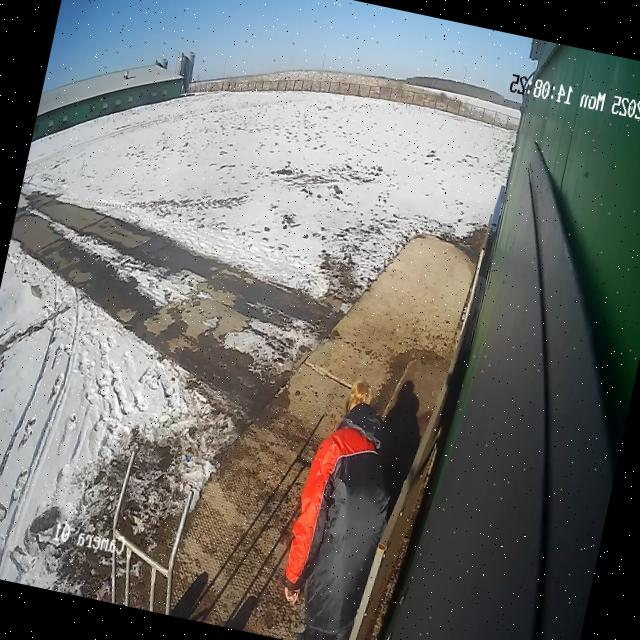Red uniform: (268, 370, 417, 640)
